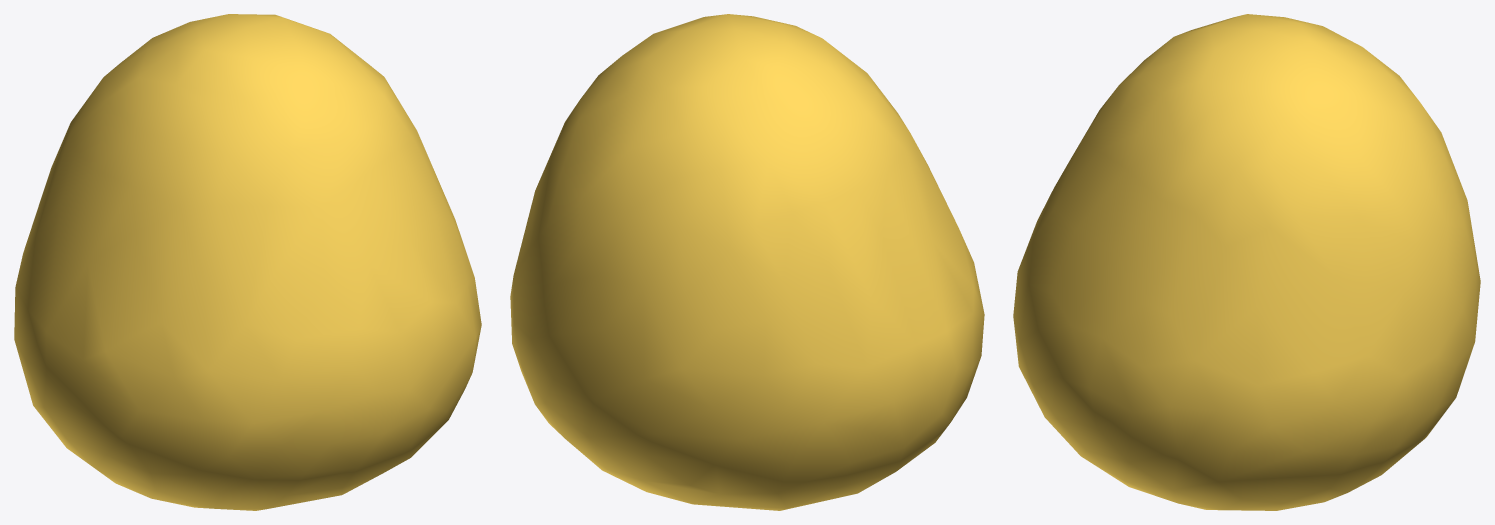
Rendered from fitted.glb.
3 renders of one model, left to right at view 1: azimuth 30°, elevation 25°; view 2: azimuth 150°, elevation 25°; view 3: azimuth 270°, elevation 25°, orthographic.
Size of the model in its own units: 0.9588 by 1.01 by 0.9457.
1 material, 1 textured.
